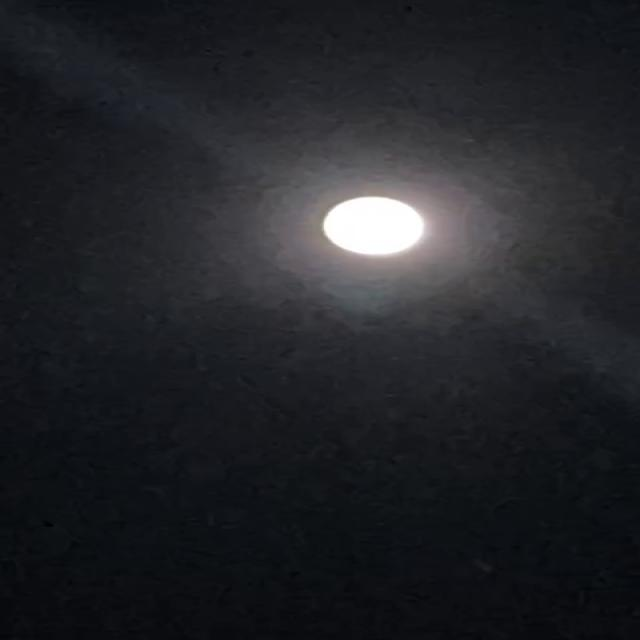moon: (298, 198, 424, 268)
